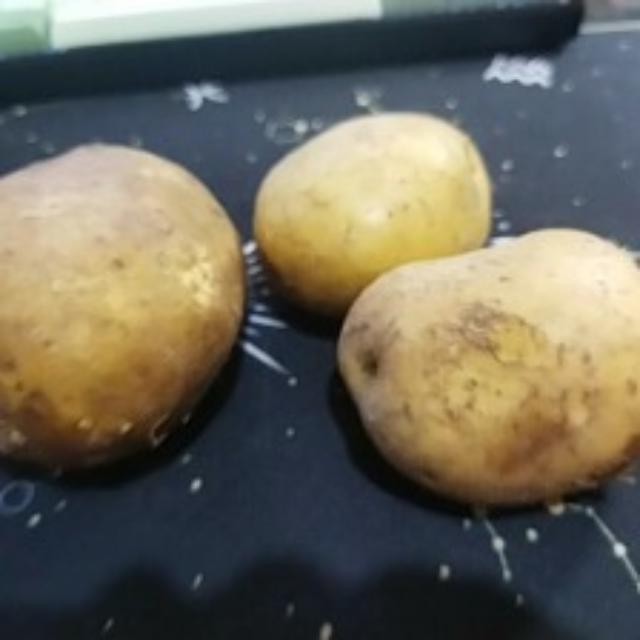Damaged potato: (336, 223, 640, 511), (3, 138, 253, 480)
Potato: (255, 104, 502, 310)
